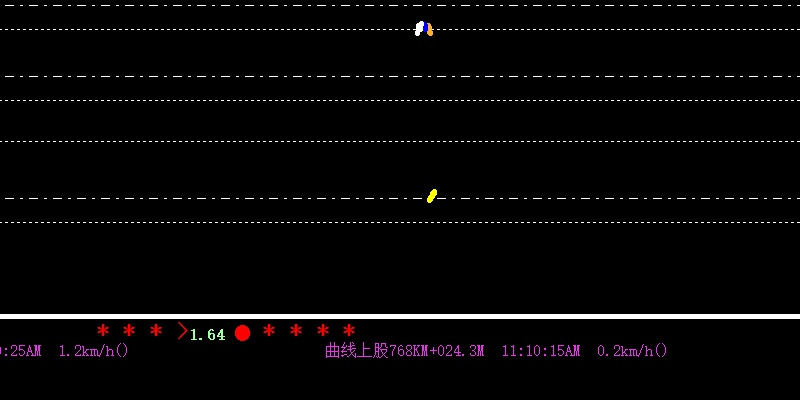circle: (233, 323, 250, 340)
face_2: (414, 19, 433, 38)
star: (315, 320, 333, 339), (337, 322, 358, 337), (120, 322, 137, 340), (262, 320, 278, 339), (93, 322, 110, 339), (289, 321, 304, 337), (148, 320, 162, 337)
